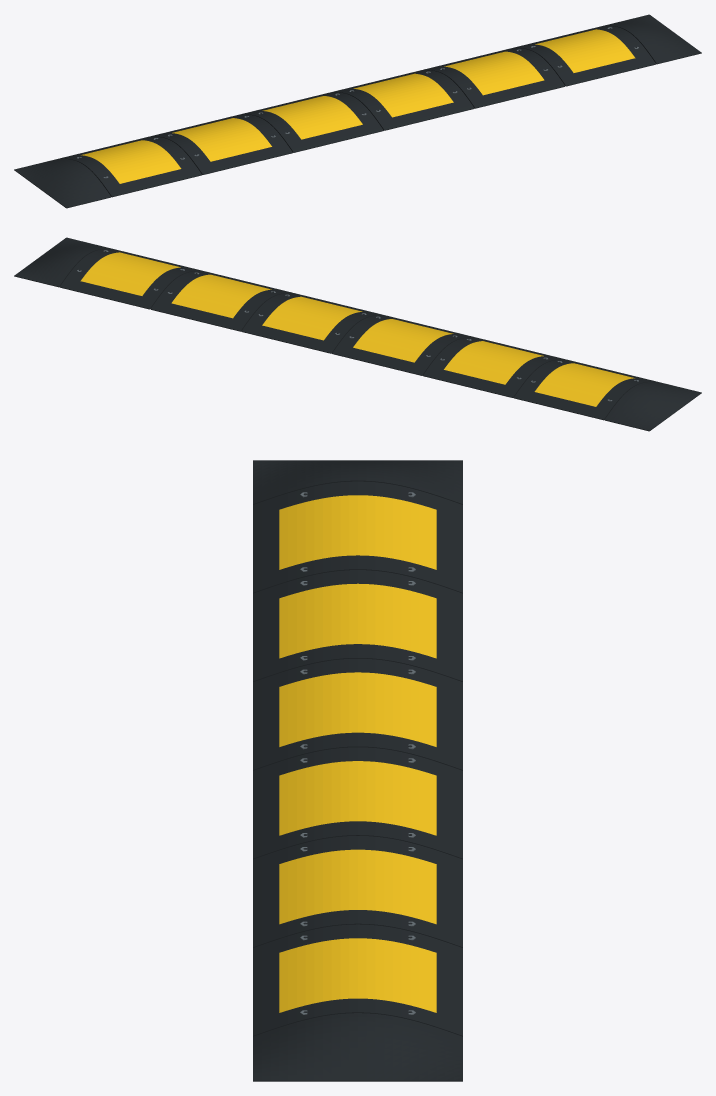
The model's file is DS_SpeedBump_Rubber_3p5m.glb.
3 renders of one model, top to bottom at view 1: azimuth 30°, elevation 25°; view 2: azimuth 150°, elevation 25°; view 3: azimuth 270°, elevation 25°, orthographic. The views are drawn at different scales.
Parts seen in each view (by area): view 1: DS_SpeedBump_Rubber_3p5m; view 2: DS_SpeedBump_Rubber_3p5m; view 3: DS_SpeedBump_Rubber_3p5m.
Boxes of the visible parts, <box> form: DS_SpeedBump_Rubber_3p5m: <box>14,14,701,208</box>; DS_SpeedBump_Rubber_3p5m: <box>14,237,701,431</box>; DS_SpeedBump_Rubber_3p5m: <box>253,460,462,1081</box>.
Size of the model in its own units: 3.5 by 0.065 by 0.5.
